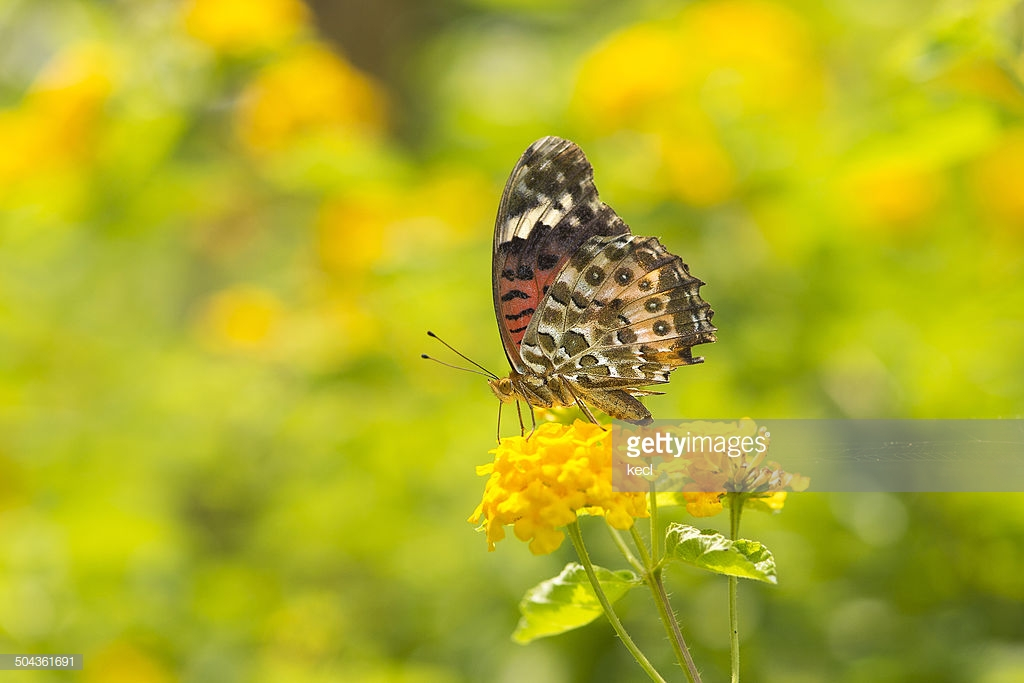Argyreus hyperbius: (409, 128, 721, 442)
butterfly: (411, 130, 723, 444)
